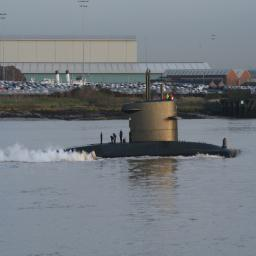submarine: (30, 69, 241, 159)
